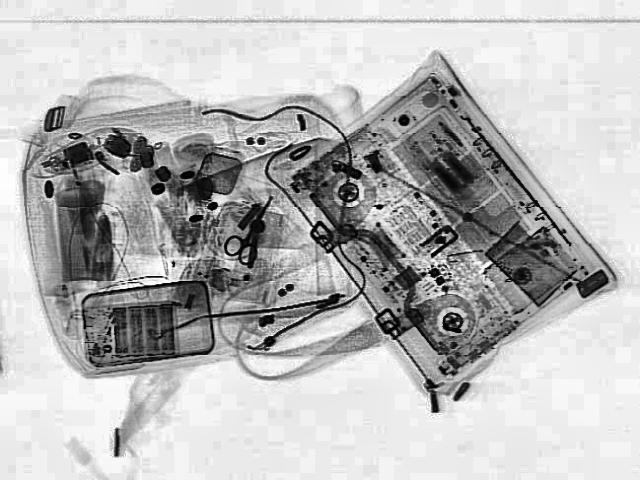Scissors: (214, 186, 292, 266)
